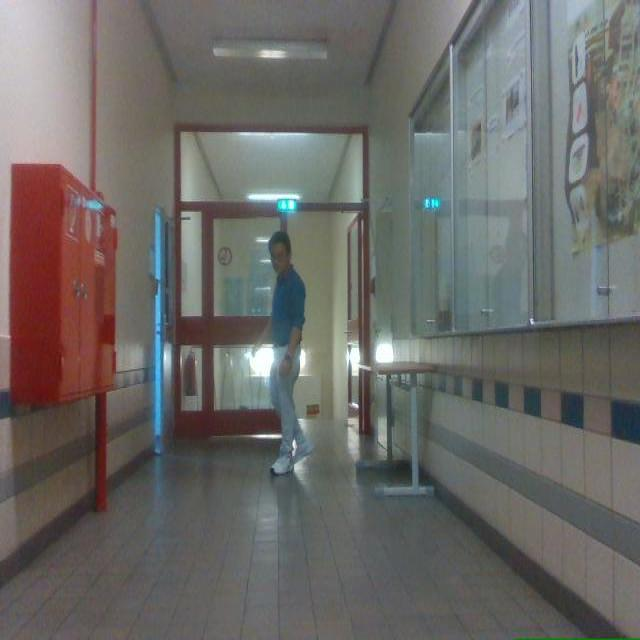humans: (256, 232, 312, 475)
objects: (359, 361, 436, 493)
